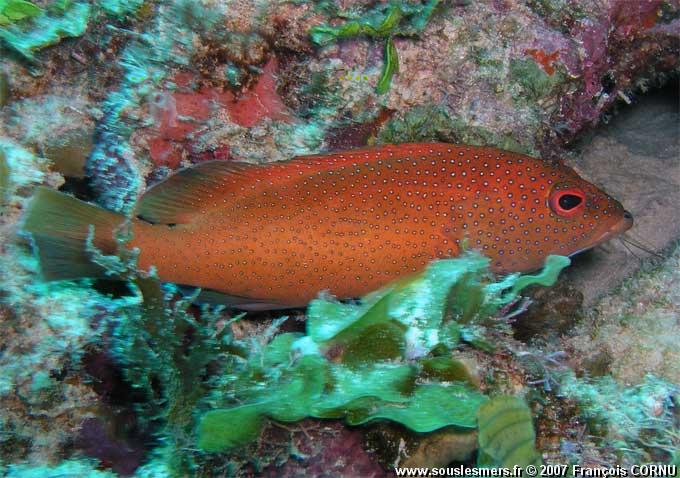Cephalopholis_fulvaw: (23, 128, 645, 316)
